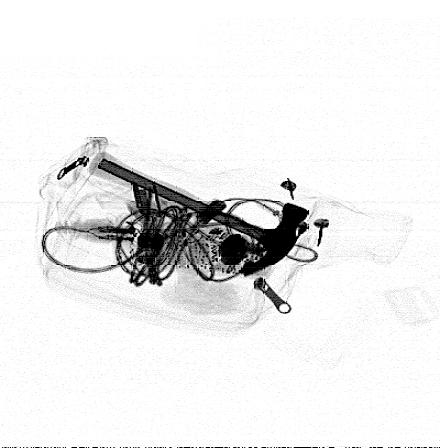Hammer: (87, 152, 312, 277)
